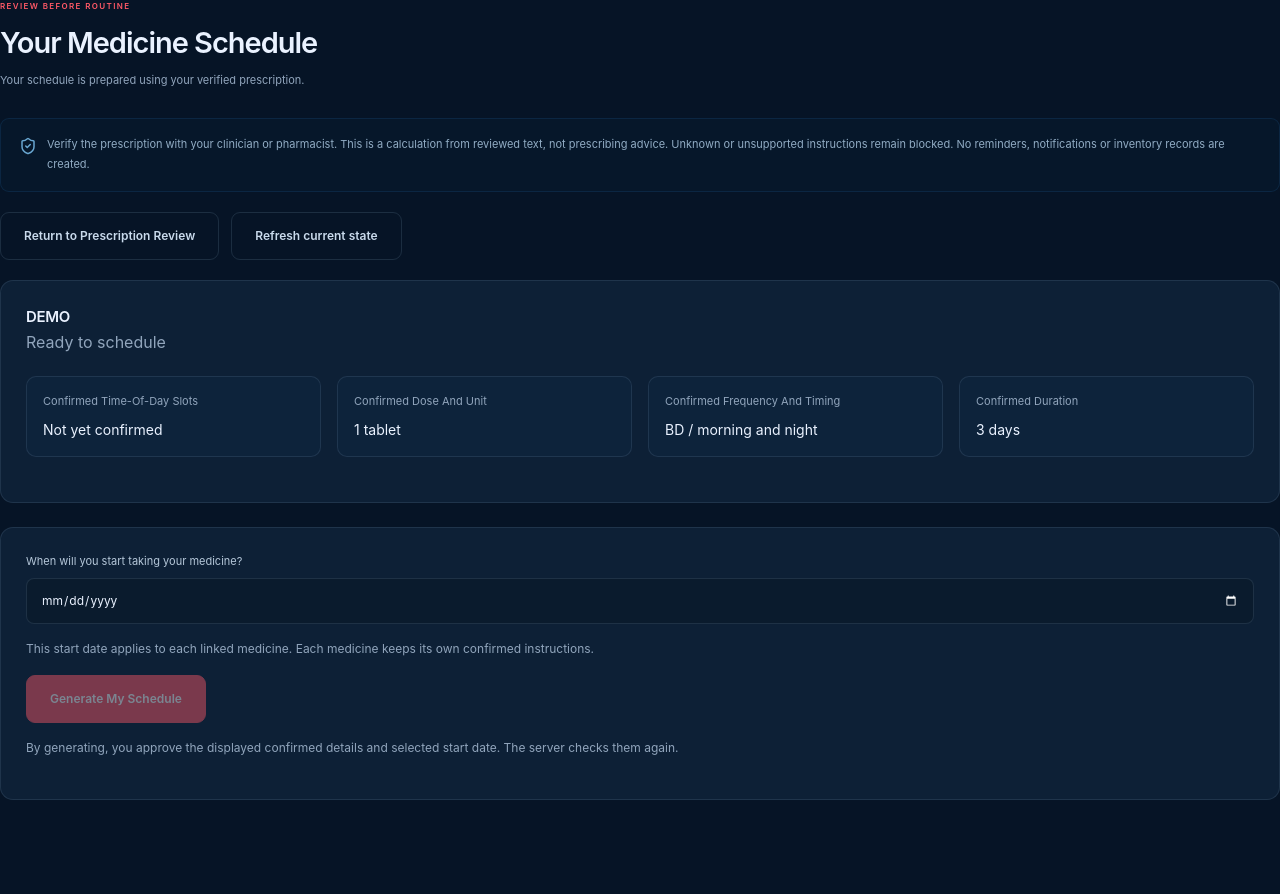
date changes hide old results and invalidate the saved approval before regeneration
Expected: the heading "Your Medicine Schedule" is shown, [0,24,317,62]
Type "2026-11-03" into the date field labelled "When will you start taking your medicine?".
click(640, 601); type("2026-11-03")  # box [26,578,1254,624]
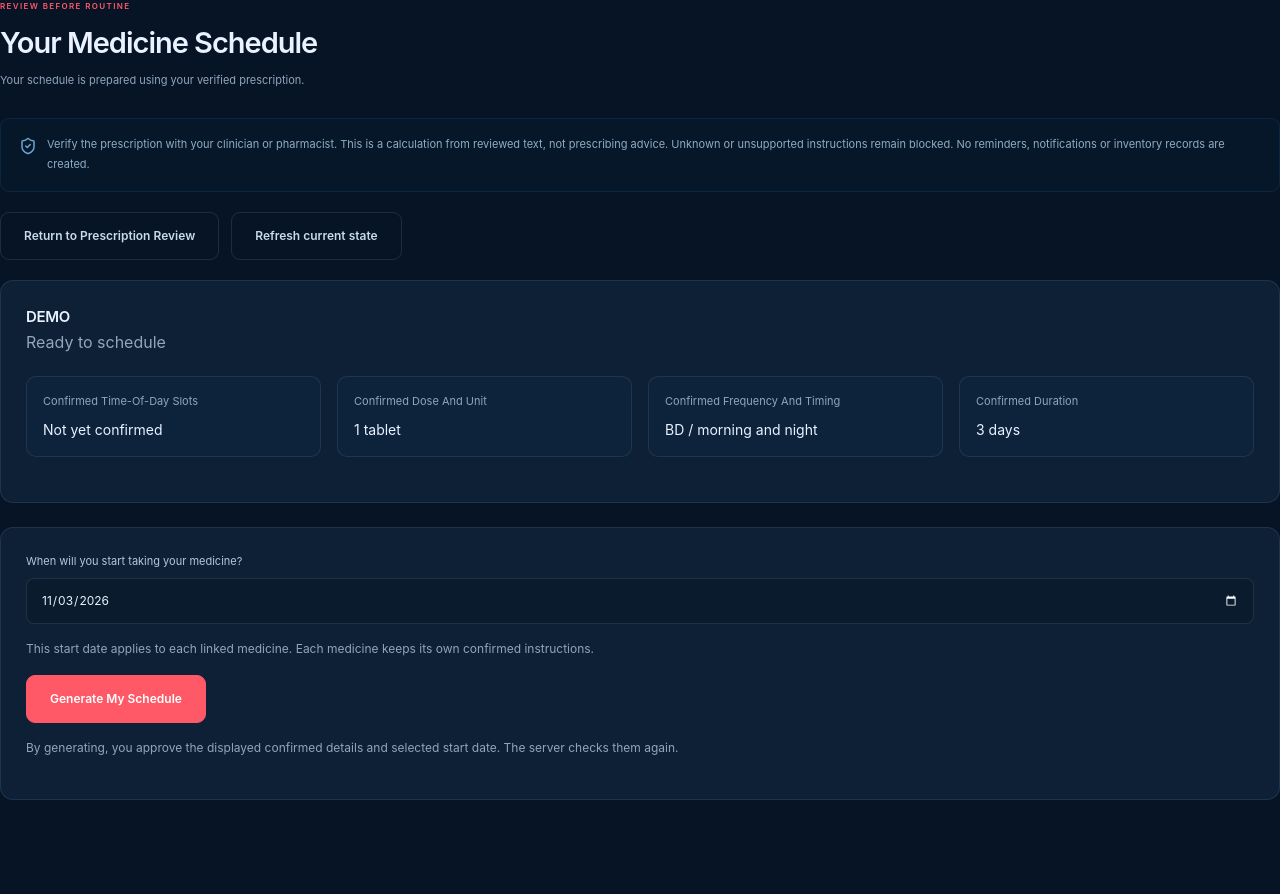
Click the button "Generate My Schedule".
click(116, 699)  # box [26,675,206,723]
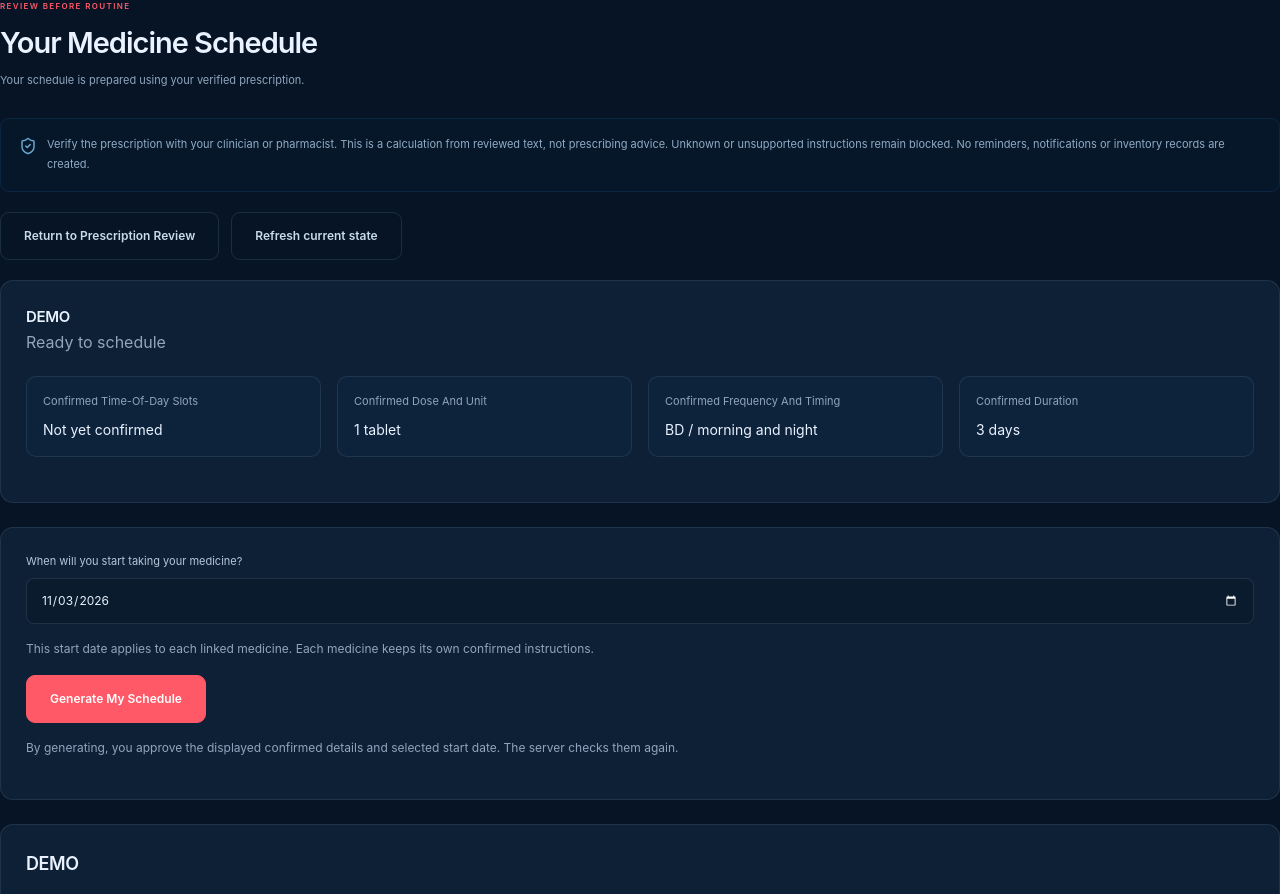
Type "2026-11-09" into the date field labelled "When will you start taking your medicine?".
click(640, 601); type("2026-11-09")  # box [26,578,1254,624]
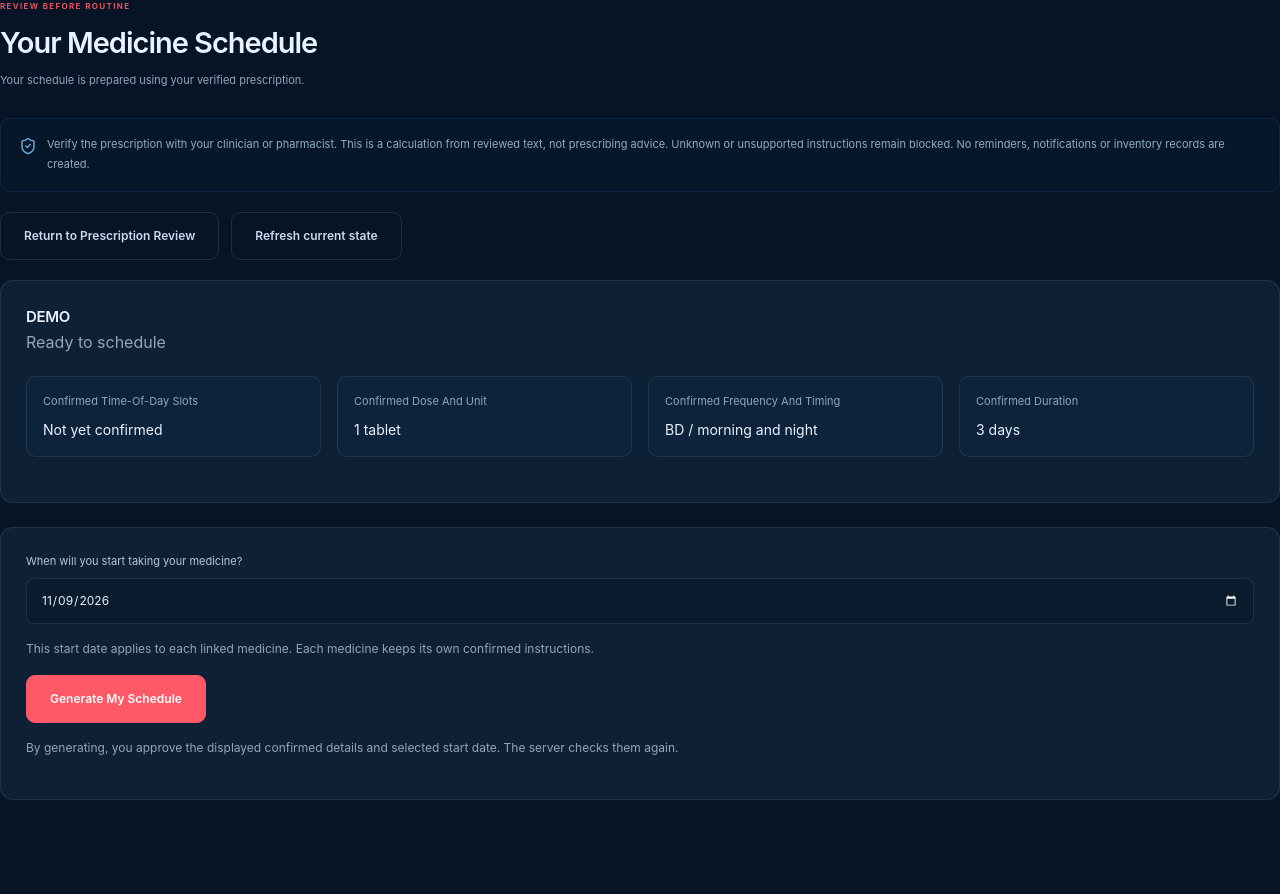
Click the button "Generate My Schedule".
click(116, 699)  # box [26,675,206,723]
(page scrolled)
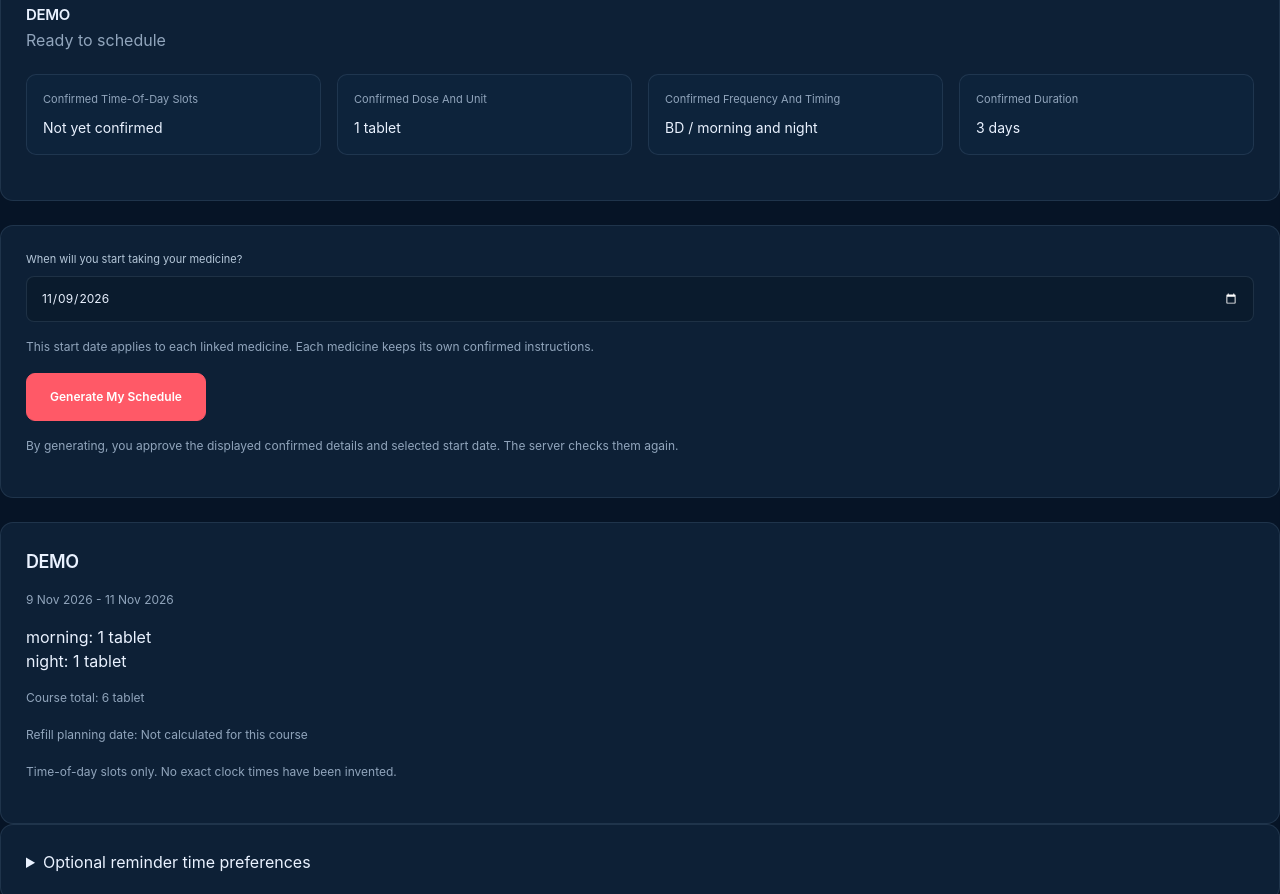
Now the element named "Calculated schedule" is shown, box [0,522,1279,824]
